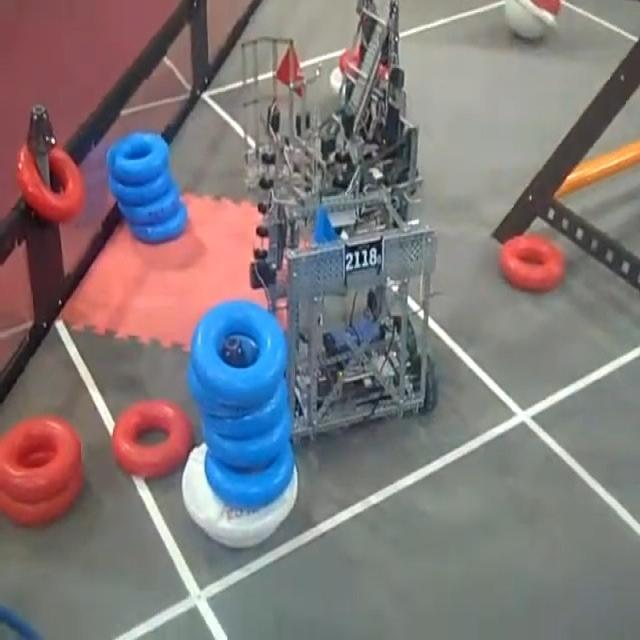Blue-Ring: (191, 300, 288, 408), (205, 442, 294, 509), (202, 382, 289, 438), (204, 413, 289, 469), (106, 132, 169, 185), (119, 182, 180, 224), (109, 168, 176, 204), (129, 203, 188, 242)
Red-Ring: (0, 417, 81, 502), (112, 400, 191, 478), (16, 143, 82, 222), (0, 467, 84, 525), (499, 235, 565, 292)
